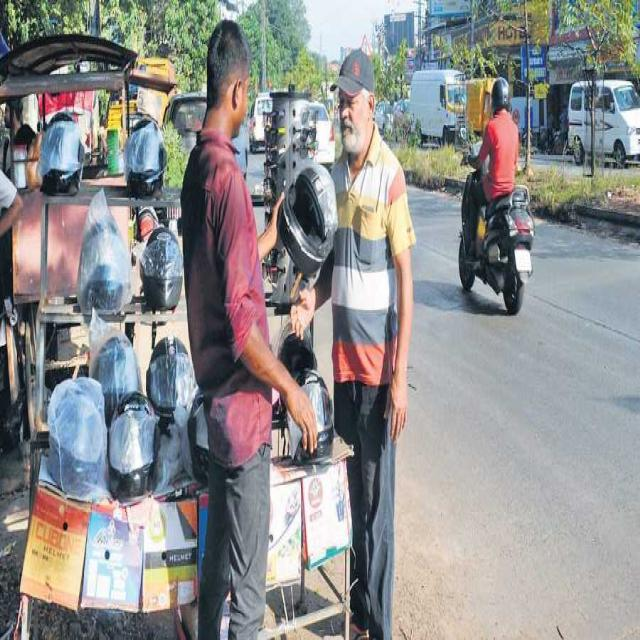helmet: (488, 70, 514, 124)
